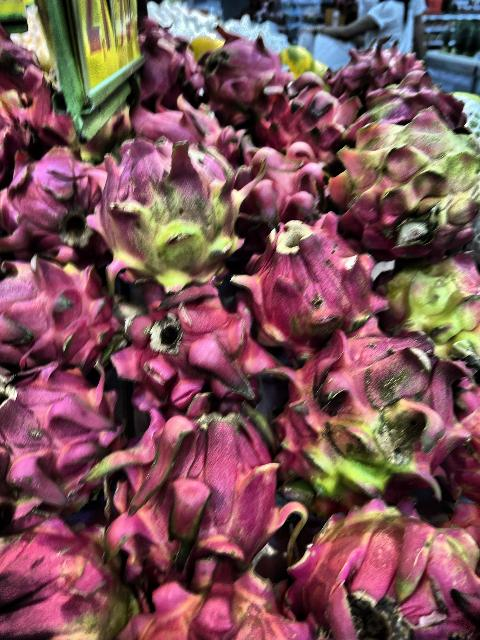buah-naga-belum-matang: (272, 328, 470, 484), (87, 136, 247, 282), (326, 115, 480, 253), (370, 250, 480, 358), (346, 75, 468, 142)
buah-naga-matang: (104, 400, 312, 574), (294, 490, 480, 640), (104, 280, 276, 412), (235, 213, 386, 343), (0, 366, 126, 514), (0, 512, 134, 640), (0, 255, 122, 372), (132, 564, 310, 640), (6, 149, 104, 267), (253, 70, 347, 154), (128, 92, 238, 158), (197, 29, 283, 110), (237, 148, 331, 222), (135, 18, 207, 104), (323, 29, 425, 87)
